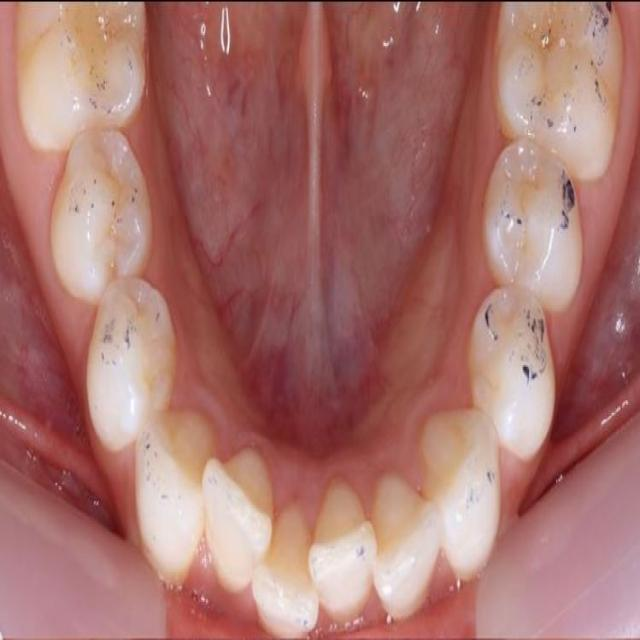1st Molar: (492, 0, 624, 183), (15, 5, 146, 154)
1st Premolar: (86, 278, 175, 456), (468, 289, 556, 462)
2nd Premolar: (50, 130, 151, 305), (483, 141, 584, 313)
Canine: (418, 408, 500, 586), (136, 413, 215, 591)
Central Incisor: (252, 499, 320, 640), (309, 482, 375, 626)
Lateral Incisor: (371, 468, 442, 623), (202, 451, 274, 594)
